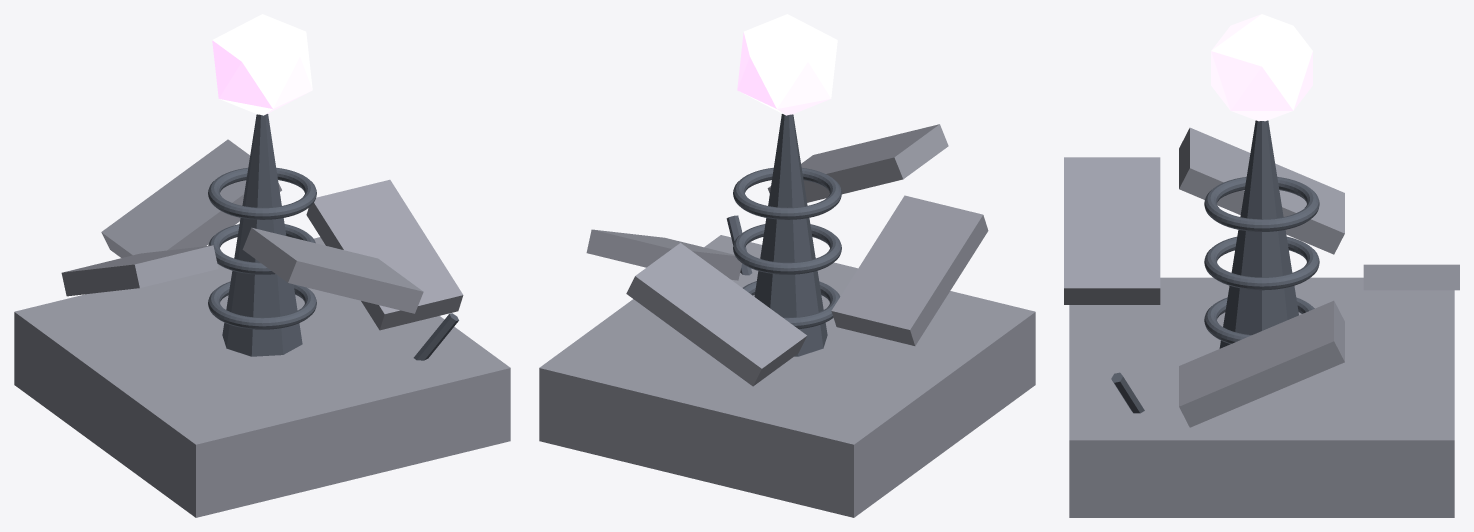
The model's file is escher_anchor.glb.
The picture shows the model from 3 angles, left to right: view 1: azimuth 30°, elevation 25°; view 2: azimuth 150°, elevation 25°; view 3: azimuth 270°, elevation 25°; orthographic projection. The views are drawn at different scales.
Visible parts, largest first — view 1: Cube, Cube.001, Cube.002, IronSpikeAnchor, RelativityCore, Cube.004, Cube.003, Torus.002, Torus, Torus.001, IronNailsPickup; view 2: Cube, Cube.003, Cube.002, IronSpikeAnchor, RelativityCore, Cube.004, Cube.001, Torus.002, Torus.001, Torus; view 3: Cube, Cube.004, Cube.001, RelativityCore, IronSpikeAnchor, Cube.003, Torus.002, Cube.002, Torus.001, Torus, IronNailsPickup.
Boxes of the visible parts, x1,y1,x2,y2 form: Cube: [14, 237, 510, 517]; Cube.001: [306, 179, 463, 330]; Cube.002: [101, 139, 281, 257]; IronSpikeAnchor: [222, 114, 302, 356]; RelativityCore: [212, 14, 312, 115]; Cube.004: [242, 227, 423, 313]; Cube.003: [61, 245, 218, 296]; Torus.002: [208, 167, 316, 219]; Torus: [208, 281, 316, 329]; Torus.001: [208, 224, 315, 274]; IronNailsPickup: [413, 313, 458, 360]; Cube: [539, 235, 1035, 517]; Cube.003: [831, 195, 988, 345]; Cube.002: [626, 243, 807, 386]; IronSpikeAnchor: [754, 114, 827, 356]; RelativityCore: [737, 14, 837, 115]; Cube.004: [767, 124, 948, 202]; Cube.001: [586, 229, 741, 280]; Torus.002: [733, 167, 841, 219]; Torus.001: [733, 224, 841, 274]; Torus: [743, 281, 840, 328]; Cube: [1069, 277, 1454, 517]; Cube.004: [1064, 157, 1160, 304]; Cube.001: [1179, 300, 1344, 427]; RelativityCore: [1211, 14, 1312, 121]; IronSpikeAnchor: [1219, 120, 1298, 348]; Cube.003: [1179, 127, 1344, 254]; Torus.002: [1204, 177, 1319, 231]; Cube.002: [1363, 264, 1459, 290]; Torus.001: [1204, 236, 1319, 290]; Torus: [1204, 297, 1314, 343]; IronNailsPickup: [1111, 372, 1144, 413].
Bounding box in the file's own units: 1.85 × 2.18 × 1.85.
